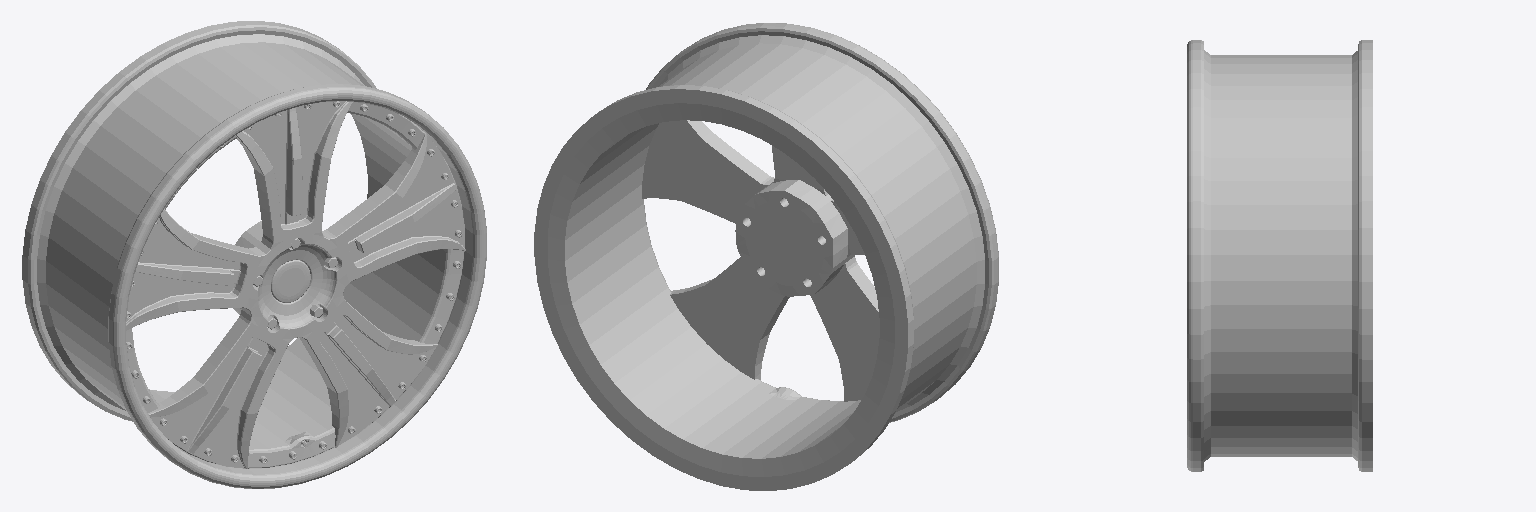
File: wheel2.obj
3 renders of one model, left to right at view 1: azimuth 30°, elevation 25°; view 2: azimuth 150°, elevation 25°; view 3: azimuth 270°, elevation 25°, orthographic.
Visible parts, largest first — view 1: rim_rim_Metal_-_Aluminium, rim_center_rim_center_Metal_-_Aluminium, Small_Bolts_Small_Bolts_Bolts; view 2: rim_rim_Metal_-_Aluminium, rim_center_rim_center_Metal_-_Aluminium; view 3: rim_rim_Metal_-_Aluminium.
Boxes of the visible parts, box(x1,y1,x2,y2) form: rim_rim_Metal_-_Aluminium: box(22, 21, 486, 488); rim_center_rim_center_Metal_-_Aluminium: box(126, 101, 465, 468); Small_Bolts_Small_Bolts_Bolts: box(126, 101, 462, 463); rim_rim_Metal_-_Aluminium: box(534, 23, 998, 490); rim_center_rim_center_Metal_-_Aluminium: box(642, 120, 879, 401); rim_rim_Metal_-_Aluminium: box(1187, 40, 1372, 471).
Bounding box in the file's own units: 2.7 × 2.7 × 1.17.